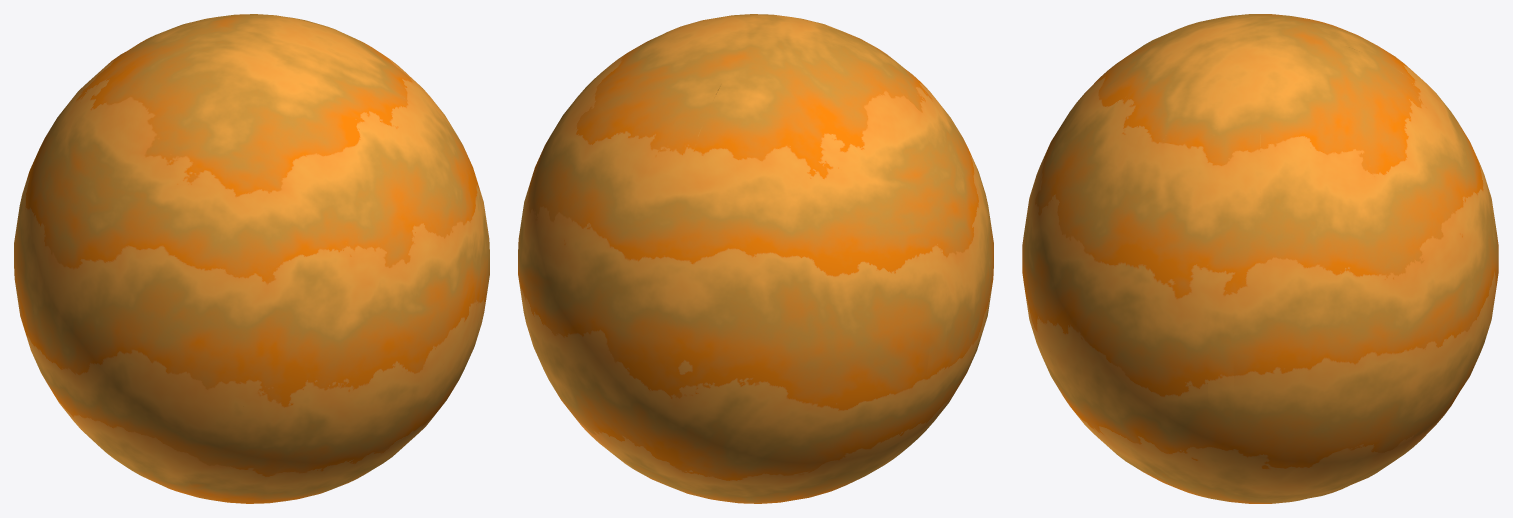
File: Planet1.fbx
3 renders of one model, left to right at view 1: azimuth 30°, elevation 25°; view 2: azimuth 150°, elevation 25°; view 3: azimuth 270°, elevation 25°, orthographic.
Parts seen in each view (by area): view 1: planet1; view 2: planet1; view 3: planet1.
Part boxes in pixels (x1,y1,x2,y2): planet1: (14, 14, 489, 503); planet1: (518, 14, 993, 503); planet1: (1022, 14, 1498, 503).
Size of the model in its own units: 210 by 218 by 210.
Materials: 1 (1 with a texture image).
